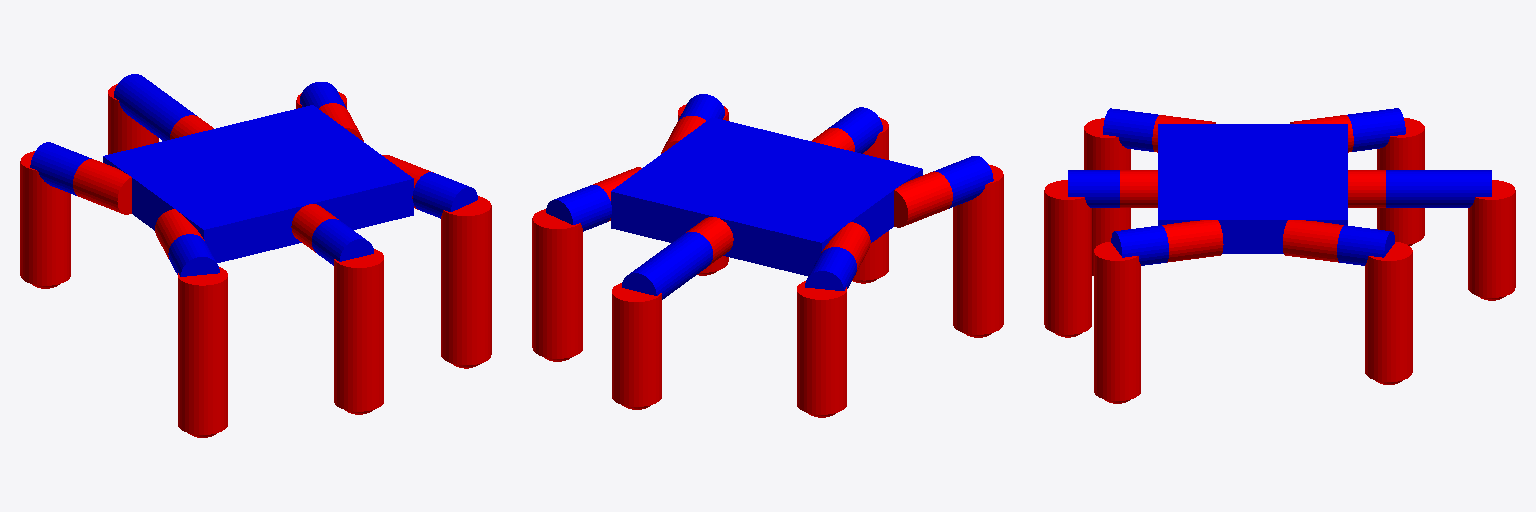
--- Facts derived from the render (not from the file) ---
The picture shows the robot from 3 angles, left to right: view 1: azimuth 30°, elevation 25°; view 2: azimuth 150°, elevation 25°; view 3: azimuth 270°, elevation 25°; orthographic projection.
Model pexod with 19 links and 18 joints (18 revolute), rooted at base_link, posed every joint at zero.
Links seen in each view (by area): view 1: base_link, leg_3_3, leg_5_3, leg_4_3, leg_0_3, leg_1_2, leg_0_1, leg_3_2, leg_4_2, leg_0_2, leg_1_3, leg_5_2 (+5 smaller); view 2: base_link, leg_5_3, leg_2_3, leg_0_3, leg_1_3, leg_1_2, leg_5_1, leg_2_2, leg_5_2, leg_0_2, leg_4_3, leg_4_2 (+5 smaller); view 3: base_link, leg_3_3, leg_4_3, leg_2_3, leg_1_3, leg_1_2, leg_0_3, leg_5_3, leg_2_1, leg_3_1, leg_0_2, leg_4_2 (+5 smaller).
Boxes of the visible links, x1=… form: base_link: x1=103, y1=105, x2=413, y2=262; leg_3_3: x1=441, y1=196, x2=491, y2=368; leg_5_3: x1=178, y1=267, x2=227, y2=437; leg_4_3: x1=334, y1=249, x2=383, y2=414; leg_0_3: x1=20, y1=151, x2=70, y2=288; leg_1_2: x1=114, y1=74, x2=196, y2=140; leg_0_1: x1=73, y1=159, x2=131, y2=214; leg_3_2: x1=413, y1=172, x2=477, y2=218; leg_4_2: x1=312, y1=219, x2=373, y2=265; leg_0_2: x1=30, y1=142, x2=91, y2=195; leg_1_3: x1=108, y1=84, x2=158, y2=154; leg_5_2: x1=168, y1=234, x2=219, y2=276; base_link: x1=611, y1=117, x2=922, y2=275; leg_5_3: x1=953, y1=164, x2=1003, y2=337; leg_2_3: x1=532, y1=209, x2=582, y2=361; leg_0_3: x1=797, y1=281, x2=846, y2=417; leg_1_3: x1=612, y1=283, x2=661, y2=409; leg_1_2: x1=622, y1=232, x2=712, y2=299; leg_5_1: x1=894, y1=171, x2=952, y2=227; leg_2_2: x1=546, y1=185, x2=611, y2=231; leg_5_2: x1=933, y1=156, x2=993, y2=208; leg_0_2: x1=805, y1=247, x2=856, y2=290; leg_4_3: x1=852, y1=117, x2=888, y2=283; leg_4_2: x1=828, y1=107, x2=882, y2=153; base_link: x1=1158, y1=124, x2=1347, y2=253; leg_3_3: x1=1094, y1=242, x2=1140, y2=403; leg_4_3: x1=1044, y1=180, x2=1091, y2=337; leg_2_3: x1=1365, y1=242, x2=1412, y2=384; leg_1_3: x1=1468, y1=180, x2=1515, y2=300; leg_1_2: x1=1386, y1=170, x2=1491, y2=207; leg_0_3: x1=1377, y1=118, x2=1424, y2=245; leg_5_3: x1=1084, y1=118, x2=1130, y2=275; leg_2_1: x1=1283, y1=220, x2=1343, y2=262; leg_3_1: x1=1162, y1=220, x2=1223, y2=262; leg_0_2: x1=1347, y1=108, x2=1405, y2=151; leg_4_2: x1=1068, y1=170, x2=1119, y2=207.
Size in the robot's own frame: 0.3576 by 0.4965 by 0.1956 metres.
Geometry: primitives only (box / cylinder / sphere), no mesh files.

URDF robot description (pexod):
<?xml version="1.0" ?>
<!-- =================================================================================== -->
<!-- |    This document was autogenerated by xacro from pexod.xacro                    | -->
<!-- |    EDITING THIS FILE BY HAND IS NOT RECOMMENDED                                 | -->
<!-- =================================================================================== -->
<robot name="pexod" xmlns:xacro="http://www.ros.org/wiki/xacro">
  <!-- <xacro:include filename="$(find pexod_description)/urdf/pexod_control.xacro" /> -->
  <!-- MATERIALS -->
  <material name="Blue">
    <color rgba="0 0 1 1"/>
  </material>
  <material name="Red">
    <color rgba="1 0 0 1"/>
  </material>
  <material name="Green">
    <color rgba="0 1 0 1"/>
  </material>
  <material name="Yellow">
    <color rgba="1 1 0 1"/>
  </material>
  <material name="LightGrey">
    <color rgba="0.6 0.6 0.6 1.0"/>
  </material>
  <!-- END OF MATERIALS -->
  <!-- XACRO MACROS FOR VISUALS AND COLLISIONS -->
  <!-- END OF XACRO MACROS -->
  <!-- TORSO -->
  <link name="base_link">
    <visual>
      <origin rpy="0 0 0" xyz="0 0 0"/>
      <geometry>
        <box size="0.24 0.2 0.04"/>
      </geometry>
      <material name="Blue"/>
    </visual>
    <collision>
      <origin rpy="0 0 0" xyz="0 0 0"/>
      <geometry>
        <box size="0.24 0.2 0.04"/>
      </geometry>
    </collision>
    <inertial>
      <!-- CENTER OF MASS -->
      <origin rpy="0 0 0" xyz="0 0 0"/>
      <mass value="1.031"/>
      <!-- box inertia: 1/12*m(y^2+z^2), ... -->
      <inertia ixx="0.00357413333333" ixy="0" ixz="0" iyy="0.00508626666667" iyz="0" izz="0.00838546666667"/>
    </inertial>
  </link>
  <!-- XACRO MACRO FOR LEGS LINKS/JOINTS -->
  <!-- END OF LEG LINKS/JOINTS -->
  <joint name="body_leg_2" type="revolute">
    <parent link="base_link"/>
    <child link="leg_2_1"/>
    <limit effort="30.0" lower="-1.57079632679" upper="1.57079632679" velocity="7.0"/>
    <origin rpy="0 0 -0.3" xyz="0.11 0.04 0"/>
    <!-- <xacro:if value="${index == 5 or index == 4 or index == 3}">
                <axis xyz="0 0 1"/>
            </xacro:if>
            <xacro:if value="${index == 2 or index == 1 or index == 0}"> -->
    <axis xyz="0 0 1"/>
    <!-- </xacro:if> -->
    <dynamics damping="0.0"/>
  </joint>
  <link name="leg_2_1">
    <visual>
      <origin rpy="1.57079632679 0 0" xyz="0.01 0.03 0"/>
      <geometry>
        <cylinder length="0.06" radius="0.02"/>
      </geometry>
      <material name="Red"/>
    </visual>
    <collision>
      <origin rpy="1.57079632679 0 0" xyz="0.01 0.03 0"/>
      <geometry>
        <box size="0.02 0.02 0.06"/>
      </geometry>
    </collision>
    <inertial>
      <!-- CENTER OF MASS -->
      <origin rpy="1.57079632679 0 0" xyz="0.01 0.03 0"/>
      <mass value="0.02"/>
      <!-- box inertia: 1/12*m(y^2+z^2), ... -->
      <inertia ixx="6.66666666667e-06" ixy="0" ixz="0" iyy="6.66666666667e-06" iyz="0" izz="1.33333333333e-06"/>
    </inertial>
  </link>
  <joint name="leg_2_1_2" type="revolute">
    <parent link="leg_2_1"/>
    <child link="leg_2_2"/>
    <limit effort="30.0" lower="-0.78539816339" upper="0.78539816339" velocity="7.0"/>
    <origin rpy="0 0 0" xyz="0 0.06 0"/>
    <axis xyz="1 0 0"/>
    <dynamics damping="0.0"/>
  </joint>
  <link name="leg_2_2">
    <visual>
      <origin rpy="1.57079632679 0 0" xyz="0.01 0.0259770253227 0"/>
      <geometry>
        <cylinder length="0.0519540506454" radius="0.02"/>
      </geometry>
      <material name="Blue"/>
    </visual>
    <collision>
      <origin rpy="1.57079632679 0 0" xyz="0.01 0.0259770253227 0"/>
      <geometry>
        <box size="0.02 0.02 0.0519540506454"/>
      </geometry>
    </collision>
    <inertial>
      <!-- CENTER OF MASS -->
      <origin rpy="1.57079632679 0 0" xyz="0.01 0.0259770253227 0"/>
      <mass value="0.184"/>
      <!-- box inertia: 1/12*m(y^2+z^2), ... -->
      <inertia ixx="4.75214251365e-05" ixy="0" ixz="0" iyy="4.75214251365e-05" iyz="0" izz="1.22666666667e-05"/>
    </inertial>
  </link>
  <joint name="leg_2_2_3" type="revolute">
    <parent link="leg_2_2"/>
    <child link="leg_2_3"/>
    <limit effort="30.0" lower="-0.78539816339" upper="0.78539816339" velocity="7.0"/>
    <origin rpy="-1.57079632679 0 0" xyz="0 0.0519540506454 0"/>
    <axis xyz="-1 0 0"/>
    <dynamics damping="0.0"/>
  </joint>
  <link name="leg_2_3">
    <visual>
      <origin rpy="1.57079632679 0 0" xyz="0.0125 0.07047775476 0"/>
      <geometry>
        <cylinder length="0.14095550952" radius="0.025"/>
      </geometry>
      <material name="Red"/>
    </visual>
    <visual>
      <origin rpy="1.57079632679 0 0" xyz="0.0125 0.12845550952 0"/>
      <geometry>
        <sphere radius="0.025"/>
      </geometry>
      <material name="Red"/>
    </visual>
    <collision>
      <origin rpy="1.57079632679 0 0" xyz="0.0125 0.07047775476 0"/>
      <geometry>
        <box size="0.025 0.025 0.14095550952"/>
      </geometry>
    </collision>
    <collision>
      <origin rpy="1.57079632679 0 0" xyz="0.0125 0.12845550952 0"/>
      <geometry>
        <sphere radius="0.025"/>
      </geometry>
      <material name="Red"/>
    </collision>
    <inertial>
      <!-- CENTER OF MASS -->
      <origin rpy="1.57079632679 0 0" xyz="0.0125 0.07047775476 0"/>
      <mass value="0.04"/>
      <!-- box inertia: 1/12*m(y^2+z^2), ... -->
      <inertia ixx="6.83115188801e-05" ixy="0" ixz="0" iyy="6.83115188801e-05" iyz="0" izz="4.16666666667e-06"/>
    </inertial>
  </link>
  <joint name="body_leg_3" type="revolute">
    <parent link="base_link"/>
    <child link="leg_3_1"/>
    <limit effort="30.0" lower="-1.57079632679" upper="1.57079632679" velocity="7.0"/>
    <origin rpy="0 0 0.3" xyz="0.11 -0.04 0"/>
    <!-- <xacro:if value="${index == 5 or index == 4 or index == 3}">
                <axis xyz="0 0 1"/>
            </xacro:if>
            <xacro:if value="${index == 2 or index == 1 or index == 0}"> -->
    <axis xyz="0 0 1"/>
    <!-- </xacro:if> -->
    <dynamics damping="0.0"/>
  </joint>
  <link name="leg_3_1">
    <visual>
      <origin rpy="1.57079632679 0 0" xyz="0.01 -0.03 0"/>
      <geometry>
        <cylinder length="0.06" radius="0.02"/>
      </geometry>
      <material name="Red"/>
    </visual>
    <collision>
      <origin rpy="1.57079632679 0 0" xyz="0.01 -0.03 0"/>
      <geometry>
        <box size="0.02 0.02 0.06"/>
      </geometry>
    </collision>
    <inertial>
      <!-- CENTER OF MASS -->
      <origin rpy="1.57079632679 0 0" xyz="0.01 -0.03 0"/>
      <mass value="0.02"/>
      <!-- box inertia: 1/12*m(y^2+z^2), ... -->
      <inertia ixx="6.66666666667e-06" ixy="0" ixz="0" iyy="6.66666666667e-06" iyz="0" izz="1.33333333333e-06"/>
    </inertial>
  </link>
  <joint name="leg_3_1_2" type="revolute">
    <parent link="leg_3_1"/>
    <child link="leg_3_2"/>
    <limit effort="30.0" lower="-0.78539816339" upper="0.78539816339" velocity="7.0"/>
    <origin rpy="0 0 0" xyz="0 -0.06 0"/>
    <axis xyz="-1 0 0"/>
    <dynamics damping="0.0"/>
  </joint>
  <link name="leg_3_2">
    <visual>
      <origin rpy="1.57079632679 0 0" xyz="0.01 -0.025752435596 0"/>
      <geometry>
        <cylinder length="0.051504871192" radius="0.02"/>
      </geometry>
      <material name="Blue"/>
    </visual>
    <collision>
      <origin rpy="1.57079632679 0 0" xyz="0.01 -0.025752435596 0"/>
      <geometry>
        <box size="0.02 0.02 0.051504871192"/>
      </geometry>
    </collision>
    <inertial>
      <!-- CENTER OF MASS -->
      <origin rpy="1.57079632679 0 0" xyz="0.01 -0.025752435596 0"/>
      <mass value="0.184"/>
      <!-- box inertia: 1/12*m(y^2+z^2), ... -->
      <inertia ixx="4.68088602664e-05" ixy="0" ixz="0" iyy="4.68088602664e-05" iyz="0" izz="1.22666666667e-05"/>
    </inertial>
  </link>
  <joint name="leg_3_2_3" type="revolute">
    <parent link="leg_3_2"/>
    <child link="leg_3_3"/>
    <limit effort="30.0" lower="-0.78539816339" upper="0.78539816339" velocity="7.0"/>
    <origin rpy="1.57079632679 0 0" xyz="0 -0.051504871192 0"/>
    <axis xyz="1 0 0"/>
    <dynamics damping="0.0"/>
  </joint>
  <link name="leg_3_3">
    <visual>
      <origin rpy="1.57079632679 0 0" xyz="0.0125 -0.0814565656035 0"/>
      <geometry>
        <cylinder length="0.162913131207" radius="0.025"/>
      </geometry>
      <material name="Red"/>
    </visual>
    <visual>
      <origin rpy="1.57079632679 0 0" xyz="0.0125 -0.150413131207 0"/>
      <geometry>
        <sphere radius="0.025"/>
      </geometry>
      <material name="Red"/>
    </visual>
    <collision>
      <origin rpy="1.57079632679 0 0" xyz="0.0125 -0.0814565656035 0"/>
      <geometry>
        <box size="0.025 0.025 0.162913131207"/>
      </geometry>
    </collision>
    <collision>
      <origin rpy="1.57079632679 0 0" xyz="0.0125 -0.150413131207 0"/>
      <geometry>
        <sphere radius="0.025"/>
      </geometry>
      <material name="Red"/>
    </collision>
    <inertial>
      <!-- CENTER OF MASS -->
      <origin rpy="1.57079632679 0 0" xyz="0.0125 -0.0814565656035 0"/>
      <mass value="0.04"/>
      <!-- box inertia: 1/12*m(y^2+z^2), ... -->
      <inertia ixx="9.05522943989e-05" ixy="0" ixz="0" iyy="9.05522943989e-05" iyz="0" izz="4.16666666667e-06"/>
    </inertial>
  </link>
  <joint name="body_leg_0" type="revolute">
    <parent link="base_link"/>
    <child link="leg_0_1"/>
    <limit effort="30.0" lower="-1.57079632679" upper="1.57079632679" velocity="7.0"/>
    <origin rpy="0 0 0.3" xyz="-0.13 0.04 0"/>
    <!-- <xacro:if value="${index == 5 or index == 4 or index == 3}">
                <axis xyz="0 0 1"/>
            </xacro:if>
            <xacro:if value="${index == 2 or index == 1 or index == 0}"> -->
    <axis xyz="0 0 1"/>
    <!-- </xacro:if> -->
    <dynamics damping="0.0"/>
  </joint>
  <link name="leg_0_1">
    <visual>
      <origin rpy="1.57079632679 0 0" xyz="0.01 0.03 0"/>
      <geometry>
        <cylinder length="0.06" radius="0.02"/>
      </geometry>
      <material name="Red"/>
    </visual>
    <collision>
      <origin rpy="1.57079632679 0 0" xyz="0.01 0.03 0"/>
      <geometry>
        <box size="0.02 0.02 0.06"/>
      </geometry>
    </collision>
    <inertial>
      <!-- CENTER OF MASS -->
      <origin rpy="1.57079632679 0 0" xyz="0.01 0.03 0"/>
      <mass value="0.02"/>
      <!-- box inertia: 1/12*m(y^2+z^2), ... -->
      <inertia ixx="6.66666666667e-06" ixy="0" ixz="0" iyy="6.66666666667e-06" iyz="0" izz="1.33333333333e-06"/>
    </inertial>
  </link>
  <joint name="leg_0_1_2" type="revolute">
    <parent link="leg_0_1"/>
    <child link="leg_0_2"/>
    <limit effort="30.0" lower="-0.78539816339" upper="0.78539816339" velocity="7.0"/>
    <origin rpy="0 0 0" xyz="0 0.06 0"/>
    <axis xyz="1 0 0"/>
    <dynamics damping="0.0"/>
  </joint>
  <link name="leg_0_2">
    <visual>
      <origin rpy="1.57079632679 0 0" xyz="0.01 0.0287660297402 0"/>
      <geometry>
        <cylinder length="0.0575320594804" radius="0.02"/>
      </geometry>
      <material name="Blue"/>
    </visual>
    <collision>
      <origin rpy="1.57079632679 0 0" xyz="0.01 0.0287660297402 0"/>
      <geometry>
        <box size="0.02 0.02 0.0575320594804"/>
      </geometry>
    </collision>
    <inertial>
      <!-- CENTER OF MASS -->
      <origin rpy="1.57079632679 0 0" xyz="0.01 0.0287660297402 0"/>
      <mass value="0.184"/>
      <!-- box inertia: 1/12*m(y^2+z^2), ... -->
      <inertia ixx="5.68857139769e-05" ixy="0" ixz="0" iyy="5.68857139769e-05" iyz="0" izz="1.22666666667e-05"/>
    </inertial>
  </link>
  <joint name="leg_0_2_3" type="revolute">
    <parent link="leg_0_2"/>
    <child link="leg_0_3"/>
    <limit effort="30.0" lower="-0.78539816339" upper="0.78539816339" velocity="7.0"/>
    <origin rpy="-1.57079632679 0 0" xyz="0 0.0575320594804 0"/>
    <axis xyz="-1 0 0"/>
    <dynamics damping="0.0"/>
  </joint>
  <link name="leg_0_3">
    <visual>
      <origin rpy="1.57079632679 0 0" xyz="0.0125 0.062462127287 0"/>
      <geometry>
        <cylinder length="0.124924254574" radius="0.025"/>
      </geometry>
      <material name="Red"/>
    </visual>
    <visual>
      <origin rpy="1.57079632679 0 0" xyz="0.0125 0.112424254574 0"/>
      <geometry>
        <sphere radius="0.025"/>
      </geometry>
      <material name="Red"/>
    </visual>
    <collision>
      <origin rpy="1.57079632679 0 0" xyz="0.0125 0.062462127287 0"/>
      <geometry>
        <box size="0.025 0.025 0.124924254574"/>
      </geometry>
    </collision>
    <collision>
      <origin rpy="1.57079632679 0 0" xyz="0.0125 0.112424254574 0"/>
      <geometry>
        <sphere radius="0.025"/>
      </geometry>
      <material name="Red"/>
    </collision>
    <inertial>
      <!-- CENTER OF MASS -->
      <origin rpy="1.57079632679 0 0" xyz="0.0125 0.062462127287 0"/>
      <mass value="0.04"/>
      <!-- box inertia: 1/12*m(y^2+z^2), ... -->
      <inertia ixx="5.41035646029e-05" ixy="0" ixz="0" iyy="5.41035646029e-05" iyz="0" izz="4.16666666667e-06"/>
    </inertial>
  </link>
  <joint name="body_leg_5" type="revolute">
    <parent link="base_link"/>
    <child link="leg_5_1"/>
    <limit effort="30.0" lower="-1.57079632679" upper="1.57079632679" velocity="7.0"/>
    <origin rpy="0 0 -0.3" xyz="-0.13 -0.04 0"/>
    <!-- <xacro:if value="${index == 5 or index == 4 or index == 3}">
                <axis xyz="0 0 1"/>
            </xacro:if>
            <xacro:if value="${index == 2 or index == 1 or index == 0}"> -->
    <axis xyz="0 0 1"/>
    <!-- </xacro:if> -->
    <dynamics damping="0.0"/>
  </joint>
  <link name="leg_5_1">
    <visual>
      <origin rpy="1.57079632679 0 0" xyz="0.01 -0.03 0"/>
      <geometry>
        <cylinder length="0.06" radius="0.02"/>
      </geometry>
      <material name="Red"/>
    </visual>
    <collision>
      <origin rpy="1.57079632679 0 0" xyz="0.01 -0.03 0"/>
      <geometry>
        <box size="0.02 0.02 0.06"/>
      </geometry>
    </collision>
    <inertial>
      <!-- CENTER OF MASS -->
      <origin rpy="1.57079632679 0 0" xyz="0.01 -0.03 0"/>
      <mass value="0.02"/>
      <!-- box inertia: 1/12*m(y^2+z^2), ... -->
      <inertia ixx="6.66666666667e-06" ixy="0" ixz="0" iyy="6.66666666667e-06" iyz="0" izz="1.33333333333e-06"/>
    </inertial>
  </link>
  <joint name="leg_5_1_2" type="revolute">
    <parent link="leg_5_1"/>
    <child link="leg_5_2"/>
    <limit effort="30.0" lower="-0.78539816339" upper="0.78539816339" velocity="7.0"/>
    <origin rpy="0 0 0" xyz="0 -0.06 0"/>
    <axis xyz="-1 0 0"/>
    <dynamics damping="0.0"/>
  </joint>
  <link name="leg_5_2">
    <visual>
      <origin rpy="1.57079632679 0 0" xyz="0.01 -0.0273357648084 0"/>
      <geometry>
        <cylinder length="0.0546715296168" radius="0.02"/>
      </geometry>
      <material name="Blue"/>
    </visual>
    <collision>
      <origin rpy="1.57079632679 0 0" xyz="0.01 -0.0273357648084 0"/>
      <geometry>
        <box size="0.02 0.02 0.0546715296168"/>
      </geometry>
    </collision>
    <inertial>
      <!-- CENTER OF MASS -->
      <origin rpy="1.57079632679 0 0" xyz="0.01 -0.0273357648084 0"/>
      <mass value="0.184"/>
      <!-- box inertia: 1/12*m(y^2+z^2), ... -->
      <inertia ixx="5.19643009765e-05" ixy="0" ixz="0" iyy="5.19643009765e-05" iyz="0" izz="1.22666666667e-05"/>
    </inertial>
  </link>
  <joint name="leg_5_2_3" type="revolute">
    <parent link="leg_5_2"/>
    <child link="leg_5_3"/>
    <limit effort="30.0" lower="-0.78539816339" upper="0.78539816339" velocity="7.0"/>
    <origin rpy="1.57079632679 0 0" xyz="0 -0.0546715296168 0"/>
    <axis xyz="1 0 0"/>
    <dynamics damping="0.0"/>
  </joint>
  <link name="leg_5_3">
    <visual>
      <origin rpy="1.57079632679 0 0" xyz="0.0125 -0.081530567005 0"/>
      <geometry>
        <cylinder length="0.16306113401" radius="0.025"/>
      </geometry>
      <material name="Red"/>
    </visual>
    <visual>
      <origin rpy="1.57079632679 0 0" xyz="0.0125 -0.15056113401 0"/>
      <geometry>
        <sphere radius="0.025"/>
      </geometry>
      <material name="Red"/>
    </visual>
    <collision>
      <origin rpy="1.57079632679 0 0" xyz="0.0125 -0.081530567005 0"/>
      <geometry>
        <box size="0.025 0.025 0.16306113401"/>
      </geometry>
    </collision>
    <collision>
      <origin rpy="1.57079632679 0 0" xyz="0.0125 -0.15056113401 0"/>
      <geometry>
        <sphere radius="0.025"/>
      </geometry>
      <material name="Red"/>
    </collision>
    <inertial>
      <!-- CENTER OF MASS -->
      <origin rpy="1.57079632679 0 0" xyz="0.0125 -0.081530567005 0"/>
      <mass value="0.04"/>
      <!-- box inertia: 1/12*m(y^2+z^2), ... -->
      <inertia ixx="9.07131114154e-05" ixy="0" ixz="0" iyy="9.07131114154e-05" iyz="0" izz="4.16666666667e-06"/>
    </inertial>
  </link>
  <joint name="body_leg_1" type="revolute">
    <parent link="base_link"/>
    <child link="leg_1_1"/>
    <limit effort="30.0" lower="-1.57079632679" upper="1.57079632679" velocity="7.0"/>
    <origin rpy="0 0 0" xyz="-0.01 0.08 0"/>
    <!-- <xacro:if value="${index == 5 or index == 4 or index == 3}">
                <axis xyz="0 0 1"/>
            </xacro:if>
            <xacro:if value="${index == 2 or index == 1 or index == 0}"> -->
    <axis xyz="0 0 1"/>
    <!-- </xacro:if> -->
    <dynamics damping="0.0"/>
  </joint>
  <link name="leg_1_1">
    <visual>
      <origin rpy="1.57079632679 0 0" xyz="0.01 0.03 0"/>
      <geometry>
        <cylinder length="0.06" radius="0.02"/>
      </geometry>
      <material name="Red"/>
    </visual>
    <collision>
      <origin rpy="1.57079632679 0 0" xyz="0.01 0.03 0"/>
      <geometry>
        <box size="0.02 0.02 0.06"/>
      </geometry>
    </collision>
    <inertial>
      <!-- CENTER OF MASS -->
      <origin rpy="1.57079632679 0 0" xyz="0.01 0.03 0"/>
      <mass value="0.02"/>
      <!-- box inertia: 1/12*m(y^2+z^2), ... -->
      <inertia ixx="6.66666666667e-06" ixy="0" ixz="0" iyy="6.66666666667e-06" iyz="0" izz="1.33333333333e-06"/>
    </inertial>
  </link>
  <joint name="leg_1_1_2" type="revolute">
    <parent link="leg_1_1"/>
    <child link="leg_1_2"/>
    <limit effort="30.0" lower="-0.78539816339" upper="0.78539816339" velocity="7.0"/>
    <origin rpy="0 0 0" xyz="0 0.06 0"/>
    <axis xyz="1 0 0"/>
    <dynamics damping="0.0"/>
  </joint>
  <link name="leg_1_2">
    <visual>
      <origin rpy="1.57079632679 0 0" xyz="0.01 0.0558300316915 0"/>
      <geometry>
        <cylinder length="0.111660063383" radius="0.02"/>
      </geometry>
      <material name="Blue"/>
    </visual>
    <collision>
      <origin rpy="1.57079632679 0 0" xyz="0.01 0.0558300316915 0"/>
      <geometry>
        <box size="0.02 0.02 0.111660063383"/>
      </geometry>
    </collision>
    <inertial>
      <!-- CENTER OF MASS -->
      <origin rpy="1.57079632679 0 0" xyz="0.01 0.0558300316915 0"/>
      <mass value="0.184"/>
      <!-- box inertia: 1/12*m(y^2+z^2), ... -->
      <inertia ixx="0.000197308869572" ixy="0" ixz="0" iyy="0.000197308869572" iyz="0" izz="1.22666666667e-05"/>
    </inertial>
  </link>
  <joint name="leg_1_2_3" type="revolute">
    <parent link="leg_1_2"/>
    <child link="leg_1_3"/>
    <limit effort="30.0" lower="-0.78539816339" upper="0.78539816339" velocity="7.0"/>
    <origin rpy="-1.57079632679 0 0" xyz="0 0.111660063383 0"/>
    <axis xyz="-1 0 0"/>
    <dynamics damping="0.0"/>
  </joint>
  <link name="leg_1_3">
    <visual>
      <origin rpy="1.57079632679 0 0" xyz="0.0125 0.056993636446 0"/>
      <geometry>
        <cylinder length="0.113987272892" radius="0.025"/>
      </geometry>
      <material name="Red"/>
    </visual>
    <visual>
      <origin rpy="1.57079632679 0 0" xyz="0.0125 0.101487272892 0"/>
      <geometry>
        <sphere radius="0.025"/>
      </geometry>
      <material name="Red"/>
    </visual>
    <collision>
      <origin rpy="1.57079632679 0 0" xyz="0.0125 0.056993636446 0"/>
      <geometry>
        <box size="0.025 0.025 0.113987272892"/>
      </geometry>
    </collision>
    <collision>
      <origin rpy="1.57079632679 0 0" xyz="0.0125 0.101487272892 0"/>
      <geometry>
        <sphere radius="0.025"/>
      </geometry>
      <material name="Red"/>
    </collision>
    <inertial>
      <!-- CENTER OF MASS -->
      <origin rpy="1.57079632679 0 0" xyz="0.0125 0.056993636446 0"/>
      <mass value="0.04"/>
      <!-- box inertia: 1/12*m(y^2+z^2), ... -->
      <inertia ixx="4.53936612712e-05" ixy="0" ixz="0" iyy="4.53936612712e-05" iyz="0" izz="4.16666666667e-06"/>
    </inertial>
  </link>
  <joint name="body_leg_4" type="revolute">
    <parent link="base_link"/>
    <child link="leg_4_1"/>
    <limit effort="30.0" lower="-1.57079632679" upper="1.57079632679" velocity="7.0"/>
    <origin rpy="0 0 0" xyz="-0.01 -0.08 0"/>
    <!-- <xacro:if value="${index == 5 or index == 4 or index == 3}">
                <axis xyz="0 0 1"/>
            </xacro:if>
            <xacro:if value="${index == 2 or index == 1 or index == 0}"> -->
    <axis xyz="0 0 1"/>
    <!-- </xacro:if> -->
    <dynamics damping="0.0"/>
  </joint>
  <link name="leg_4_1">
    <visual>
      <origin rpy="1.57079632679 0 0" xyz="0.01 -0.03 0"/>
      <geometry>
        <cylinder length="0.06" radius="0.02"/>
      </geometry>
      <material name="Red"/>
    </visual>
    <collision>
      <origin rpy="1.57079632679 0 0" xyz="0.01 -0.03 0"/>
      <geometry>
        <box size="0.02 0.02 0.06"/>
      </geometry>
    </collision>
    <inertial>
      <!-- CENTER OF MASS -->
      <origin rpy="1.57079632679 0 0" xyz="0.01 -0.03 0"/>
      <mass value="0.02"/>
      <!-- box inertia: 1/12*m(y^2+z^2), ... -->
      <inertia ixx="6.66666666667e-06" ixy="0" ixz="0" iyy="6.66666666667e-06" iyz="0" izz="1.33333333333e-06"/>
    </inertial>
  </link>
  <joint name="leg_4_1_2" type="revolute">
    <parent link="leg_4_1"/>
    <child link="leg_4_2"/>
    <limit effort="30.0" lower="-0.78539816339" upper="0.78539816339" velocity="7.0"/>
    <origin rpy="0 0 0" xyz="0 -0.06 0"/>
    <axis xyz="-1 0 0"/>
    <dynamics damping="0.0"/>
  </joint>
  <link name="leg_4_2">
    <visual>
      <origin rpy="1.57079632679 0 0" xyz="0.01 -0.0274360329027 0"/>
      <geometry>
        <cylinder length="0.0548720658055" radius="0.02"/>
      </geometry>
      <material name="Blue"/>
    </visual>
    <collision>
      <origin rpy="1.57079632679 0 0" xyz="0.01 -0.0274360329027 0"/>
      <geometry>
        <box size="0.02 0.02 0.0548720658055"/>
      </geometry>
    </collision>
    <inertial>
      <!-- CENTER OF MASS -->
      <origin rpy="1.57079632679 0 0" xyz="0.01 -0.0274360329027 0"/>
      <mass value="0.184"/>
      <!-- box inertia: 1/12*m(y^2+z^2), ... -->
      <inertia ixx="5.23011352884e-05" ixy="0" ixz="0" iyy="5.23011352884e-05" iyz="0" izz="1.22666666667e-05"/>
    </inertial>
  </link>
  <joint name="leg_4_2_3" type="revolute">
    <parent link="leg_4_2"/>
    <child link="leg_4_3"/>
    <limit effort="30.0" lower="-0.78539816339" upper="0.78539816339" velocity="7.0"/>
    <origin rpy="1.57079632679 0 0" xyz="0 -0.0548720658055 0"/>
    <axis xyz="1 0 0"/>
    <dynamics damping="0.0"/>
  </joint>
  <link name="leg_4_3">
    <visual>
      <origin rpy="1.57079632679 0 0" xyz="0.0125 -0.078412587905 0"/>
      <geometry>
        <cylinder length="0.15682517581" radius="0.025"/>
      </geometry>
      <material name="Red"/>
    </visual>
    <visual>
      <origin rpy="1.57079632679 0 0" xyz="0.0125 -0.14432517581 0"/>
      <geometry>
        <sphere radius="0.025"/>
      </geometry>
      <material name="Red"/>
    </visual>
    <collision>
      <origin rpy="1.57079632679 0 0" xyz="0.0125 -0.078412587905 0"/>
      <geometry>
        <box size="0.025 0.025 0.15682517581"/>
      </geometry>
    </collision>
    <collision>
      <origin rpy="1.57079632679 0 0" xyz="0.0125 -0.14432517581 0"/>
      <geometry>
        <sphere radius="0.025"/>
      </geometry>
      <material name="Red"/>
    </collision>
    <inertial>
      <!-- CENTER OF MASS -->
      <origin rpy="1.57079632679 0 0" xyz="0.0125 -0.078412587905 0"/>
      <mass value="0.04"/>
      <!-- box inertia: 1/12*m(y^2+z^2), ... -->
      <inertia ixx="8.40637858928e-05" ixy="0" ixz="0" iyy="8.40637858928e-05" iyz="0" izz="4.16666666667e-06"/>
    </inertial>
  </link>
  <!-- END OF LEG LINKS/JOINTS -->
</robot>
